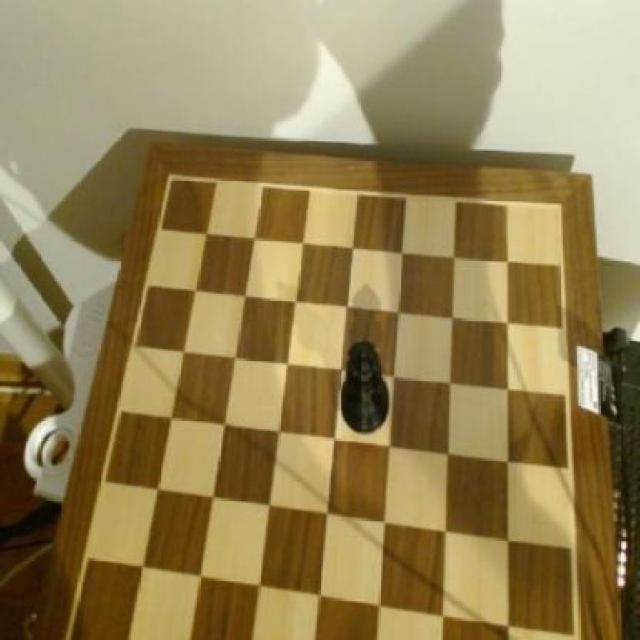black-pawn: (342, 336, 393, 438)
